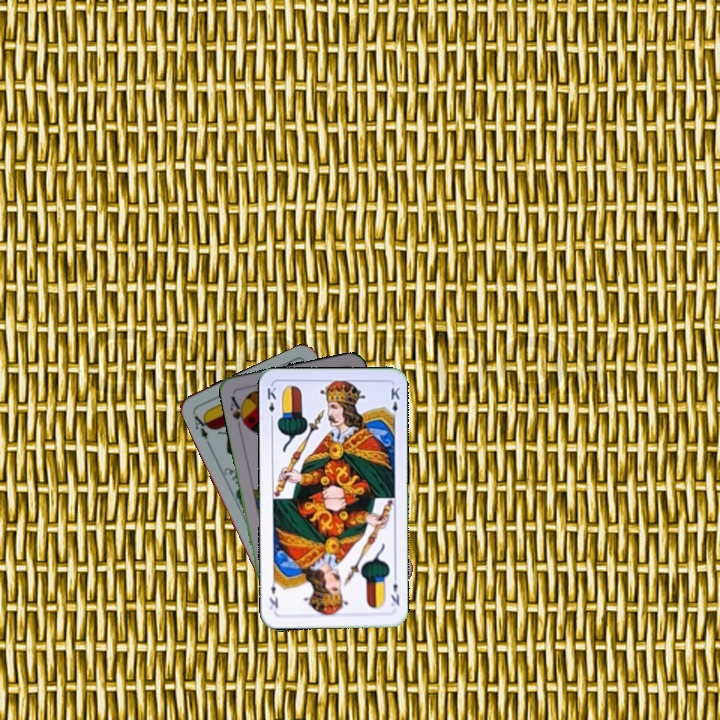EA: (189, 409, 214, 447)
EK: (263, 383, 278, 424), (387, 571, 402, 609)
SA: (226, 392, 250, 431)
